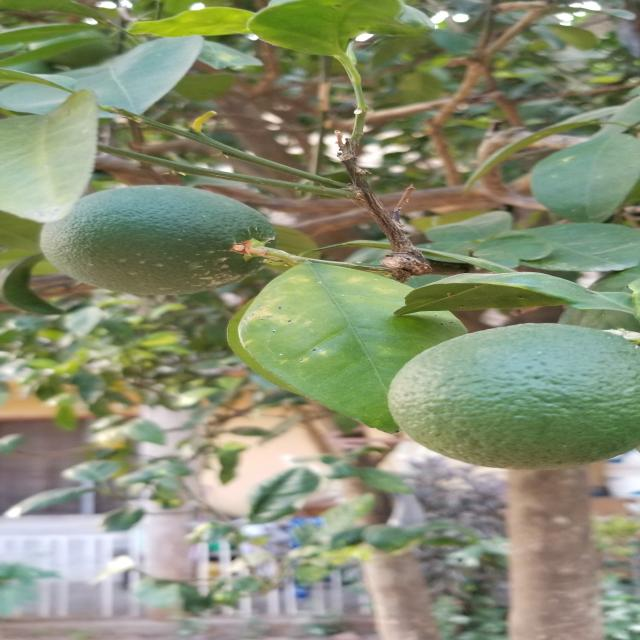Unripe: (379, 321, 640, 476), (42, 182, 288, 302)
